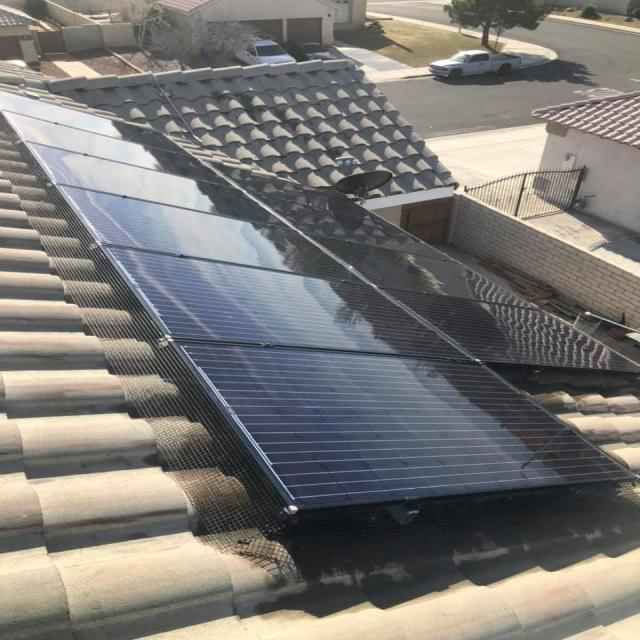clean-solar-panel: (2, 92, 637, 511)
